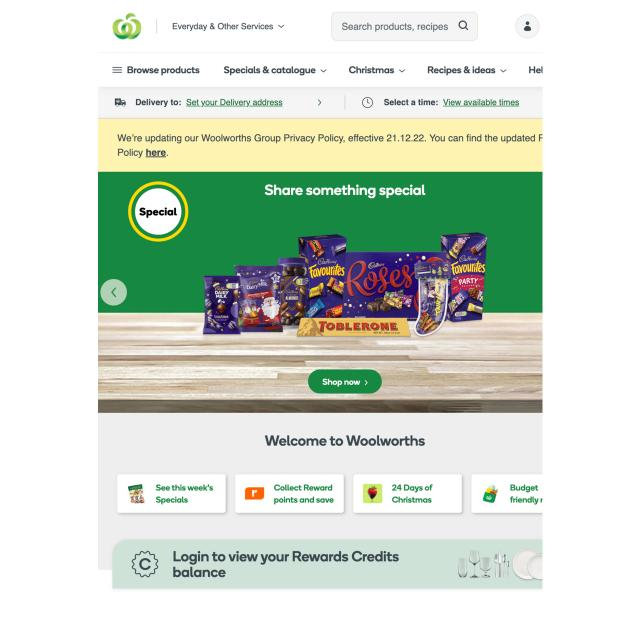input: (332, 11, 479, 41)
logo: (106, 8, 145, 43)
navigation: (117, 474, 552, 516), (106, 61, 547, 79), (110, 64, 124, 76)
